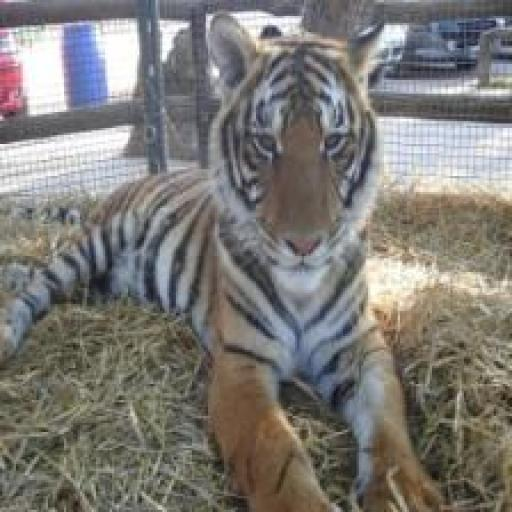Tiger: (0, 0, 442, 512)
